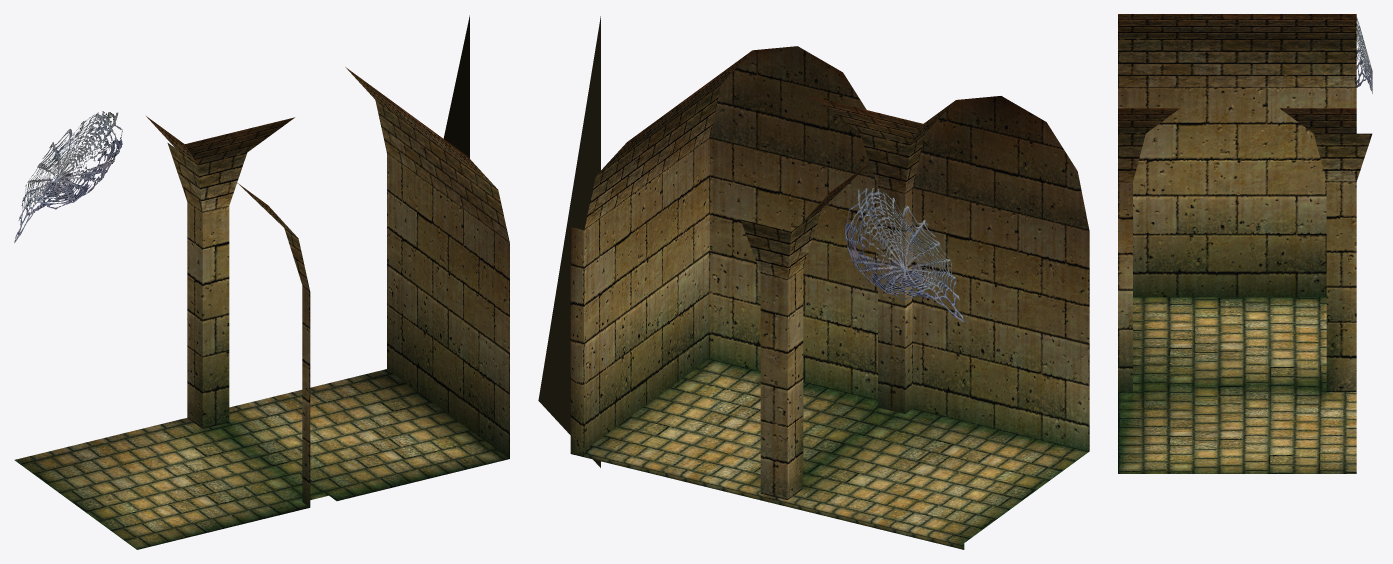
The model's file is Mission12_Sewer02.glb.
3 views of the same model, side by side, from view 1: azimuth 30°, elevation 25°; view 2: azimuth 150°, elevation 25°; view 3: azimuth 270°, elevation 25° (orthographic). The views are drawn at different scales.
Parts seen in each view (by area): view 1: MISSION12_SEWER02; view 2: MISSION12_SEWER02; view 3: MISSION12_SEWER02.
Part boxes in pixels (left/top/right/bottom): MISSION12_SEWER02: left=14, top=15, right=509, bottom=549; MISSION12_SEWER02: left=538, top=16, right=1089, bottom=549; MISSION12_SEWER02: left=1118, top=14, right=1372, bottom=473.
Size of the model in its own units: 7.62 by 8 by 4.38.
Materials: 4 (4 with a texture image).
